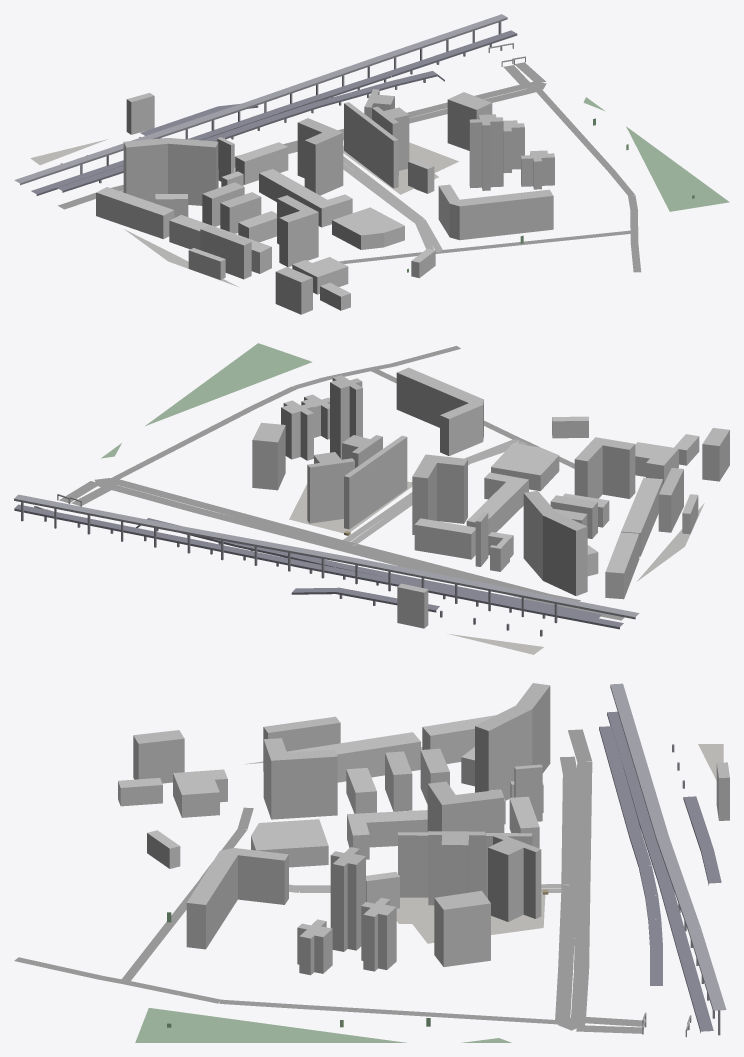
3 renders of one model, top to bottom at view 1: azimuth 30°, elevation 25°; view 2: azimuth 150°, elevation 25°; view 3: azimuth 270°, elevation 25°, orthographic. The views are drawn at different scales.
Size of the model in its own units: 560 by 70.26 by 497.
